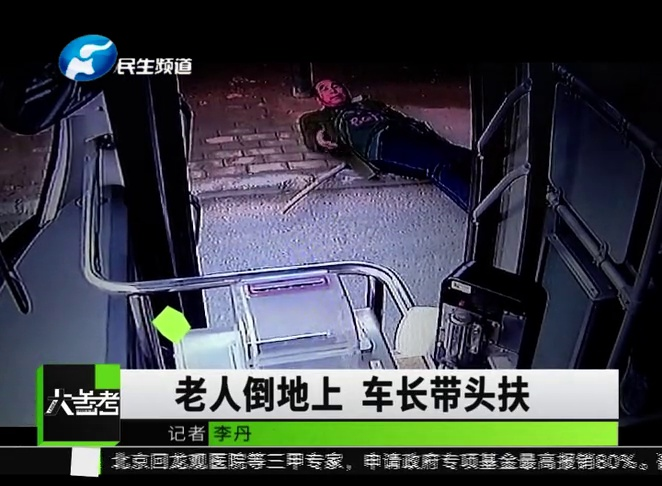fall: (298, 75, 481, 211)
